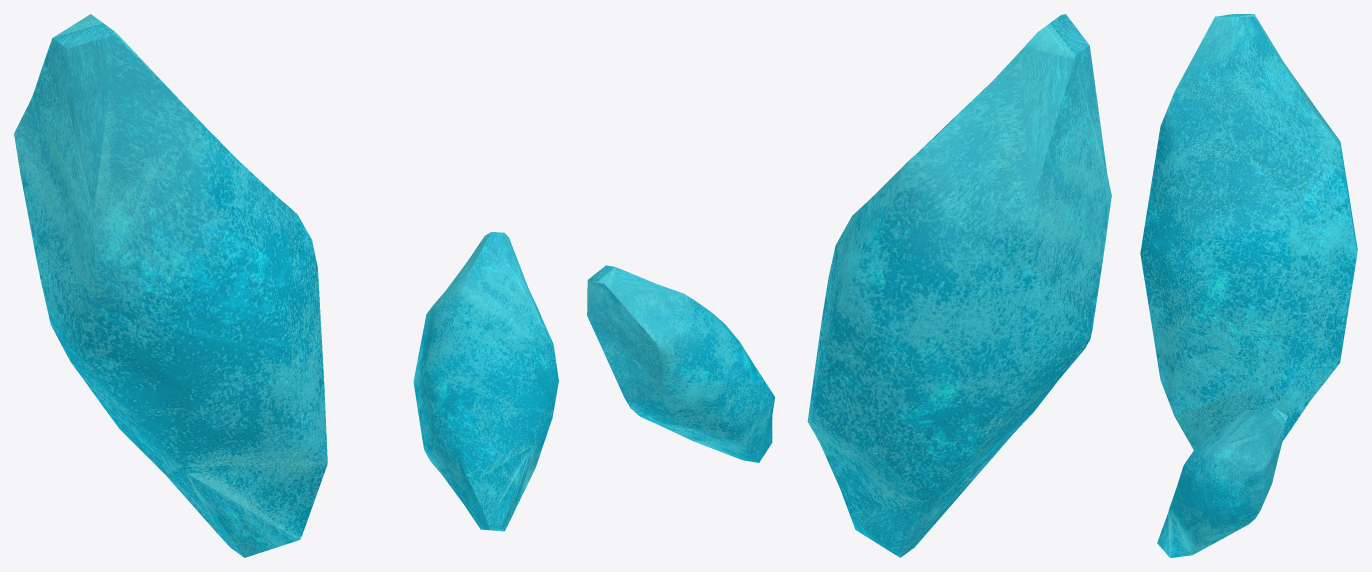
File: item.mineral.lumenita.glb
3 renders of one model, left to right at view 1: azimuth 30°, elevation 25°; view 2: azimuth 150°, elevation 25°; view 3: azimuth 270°, elevation 25°, orthographic. The views are drawn at different scales.
Parts seen in each view (by area): view 1: Extrusión_Cubo_Cubo_Cubo_Cubo, Extrusión_Cubo_Cubo_Cubo_Cubo3; view 2: Extrusión_Cubo_Cubo_Cubo_Cubo, Extrusión_Cubo_Cubo_Cubo_Cubo3; view 3: Extrusión_Cubo_Cubo_Cubo_Cubo, Extrusión_Cubo_Cubo_Cubo_Cubo3.
Boxes of the visible parts, x1,y1,x2,y2 form: Extrusión_Cubo_Cubo_Cubo_Cubo: (14,14,327,557); Extrusión_Cubo_Cubo_Cubo_Cubo3: (413,232,558,531); Extrusión_Cubo_Cubo_Cubo_Cubo: (807,14,1111,557); Extrusión_Cubo_Cubo_Cubo_Cubo3: (587,265,775,462); Extrusión_Cubo_Cubo_Cubo_Cubo: (1140,14,1357,449); Extrusión_Cubo_Cubo_Cubo_Cubo3: (1157,407,1287,557).
Bounding box in the file's own units: 0.9621 × 1.07 × 0.5068.
Materials: 1 (1 with a texture image).
